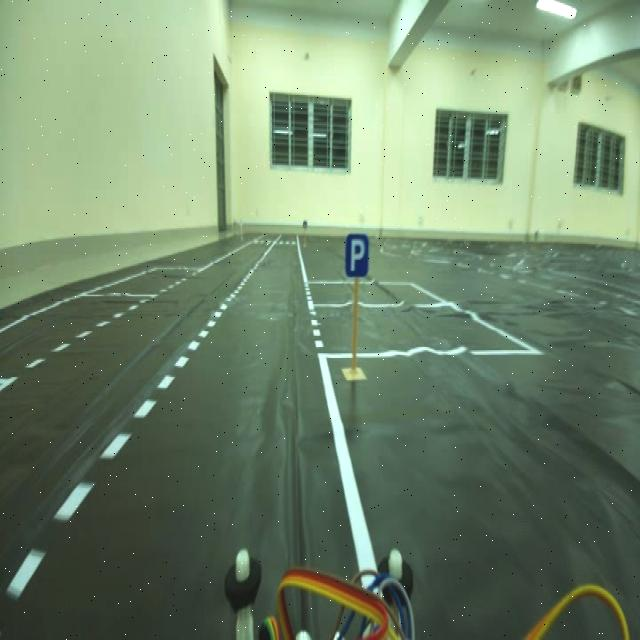parking: (339, 223, 374, 281)
